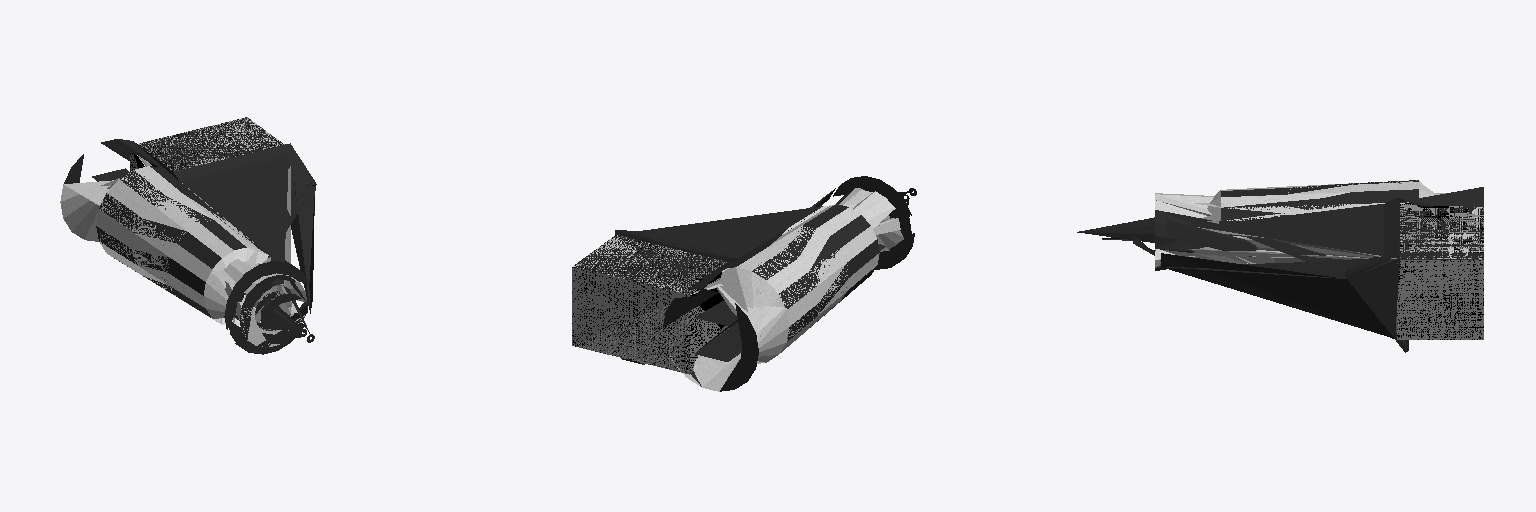
3 renders of one model, left to right at view 1: azimuth 30°, elevation 25°; view 2: azimuth 150°, elevation 25°; view 3: azimuth 270°, elevation 25°, orthographic.
Parts seen in each view (by area): view 1: Cylinder02, Shape01, Cylinder01, Mesher01; view 2: Shape01, Cylinder01, Cylinder02, Cone01, Cylinder05, Box03, Box02, Mesher01, Cylinder03; view 3: Cylinder02, Cylinder01, Shape01, Cylinder03, Cone01, Box03, Mesher01.
Part boxes in pixels (x1,y1,x2,y2): Cylinder02: (92, 143, 316, 354); Shape01: (60, 166, 306, 346); Cylinder01: (64, 117, 306, 347); Mesher01: (138, 117, 284, 170); Shape01: (670, 188, 903, 391); Cylinder01: (575, 188, 879, 391); Cylinder02: (615, 176, 916, 364); Cone01: (572, 267, 728, 369); Cylinder05: (576, 219, 887, 374); Box03: (572, 235, 724, 372); Box02: (573, 235, 722, 372); Mesher01: (574, 236, 726, 294); Cylinder03: (572, 215, 889, 344); Cylinder02: (1077, 198, 1408, 352); Cylinder01: (1155, 180, 1483, 270); Shape01: (1155, 180, 1445, 267); Cylinder03: (1165, 249, 1483, 338); Cone01: (1163, 216, 1483, 339); Box03: (1397, 203, 1483, 339); Mesher01: (1400, 204, 1483, 259).
Bounding box in the file's own units: 136 × 71.31 × 257.
7 materials, 1 textured.